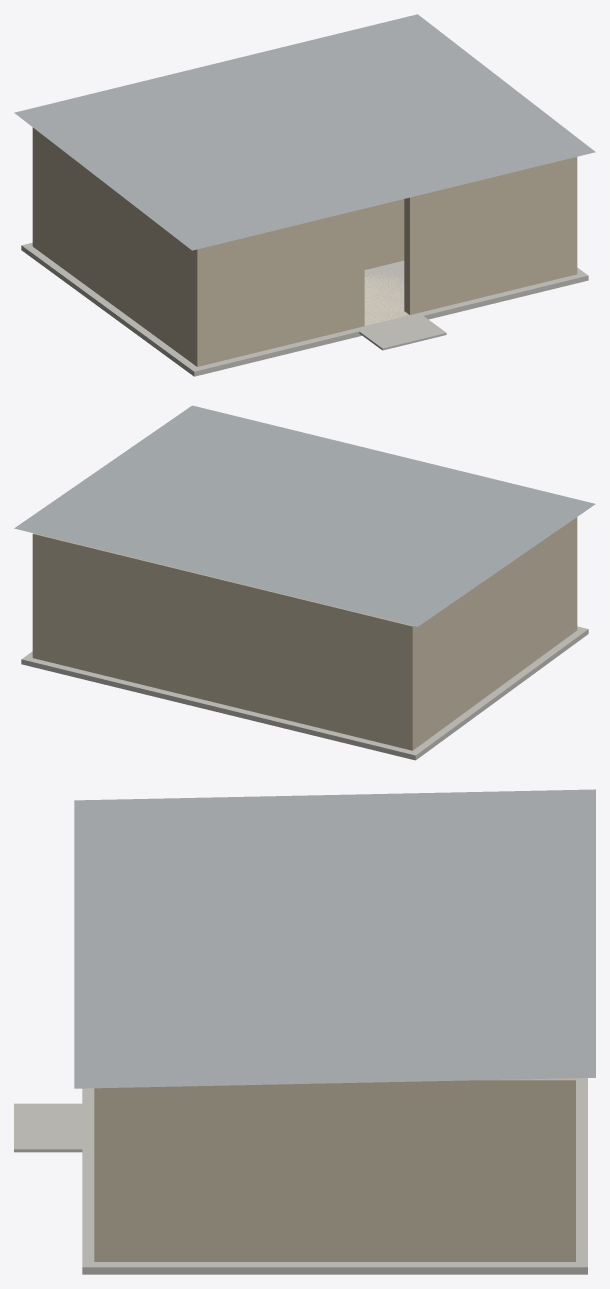
The model's file is mushroom-cultivation.glb.
The picture shows the model from 3 angles, top to bottom: view 1: azimuth 30°, elevation 25°; view 2: azimuth 150°, elevation 25°; view 3: azimuth 270°, elevation 25°; orthographic projection. The views are drawn at different scales.
Visible parts, largest first — view 1: standing-seam metal, board and batten, concrete, stone; view 2: standing-seam metal, board and batten, concrete; view 3: standing-seam metal, board and batten, concrete.
Part boxes in pixels (x1,y1,x2,y2): standing-seam metal: (14, 14, 595, 250); board and batten: (32, 127, 577, 366); concrete: (21, 242, 588, 376); stone: (364, 266, 408, 325); standing-seam metal: (14, 405, 595, 626); board and batten: (32, 517, 577, 750); concrete: (21, 626, 588, 760); standing-seam metal: (74, 789, 595, 1088); board and batten: (94, 1078, 575, 1261); concrete: (14, 1078, 587, 1274).
Bounding box in the file's own units: 8.5 × 2.75 × 7.25.
